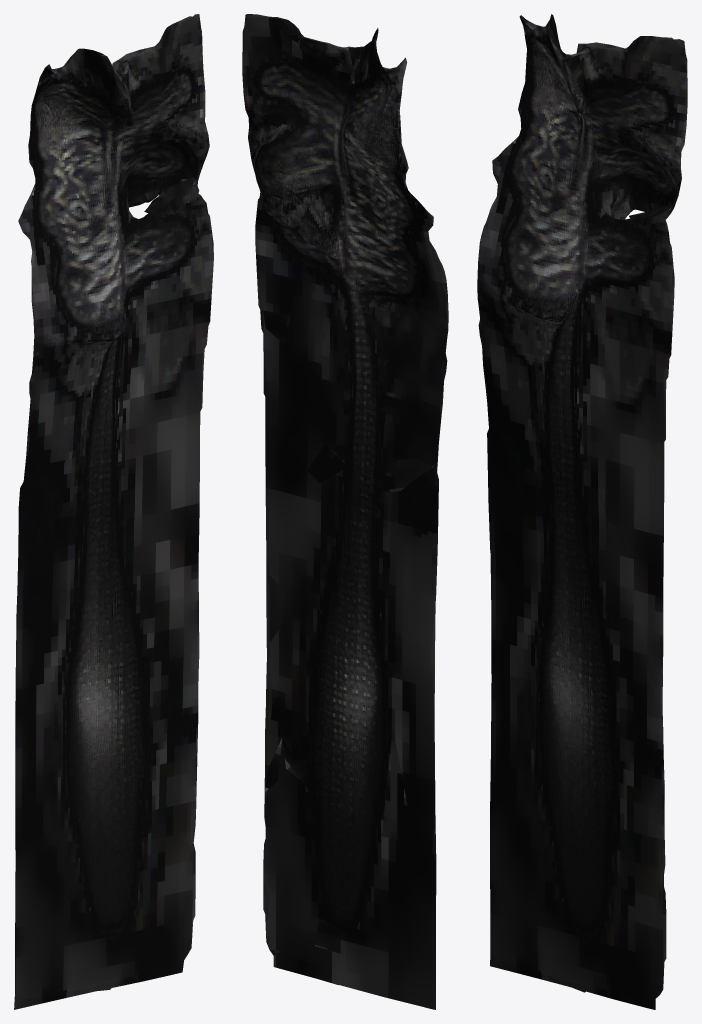
Rendered from trellis_result.glb.
3 renders of one model, left to right at view 1: azimuth 30°, elevation 25°; view 2: azimuth 150°, elevation 25°; view 3: azimuth 330°, elevation 25°, orthographic. The views are drawn at different scales.
Parts seen in each view (by area): view 1: world; view 2: world; view 3: world.
Boxes of the visible parts, x1,y1,x2,y2 form: world: [14, 14, 213, 1009]; world: [242, 14, 448, 1009]; world: [477, 14, 687, 1009].
Size of the model in its own units: 0.2113 by 1 by 0.0801.
1 material, 1 textured.
